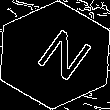N_SW: (21, 23, 89, 87)
